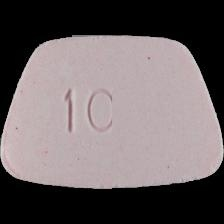21695-131: (0, 0, 224, 224)
